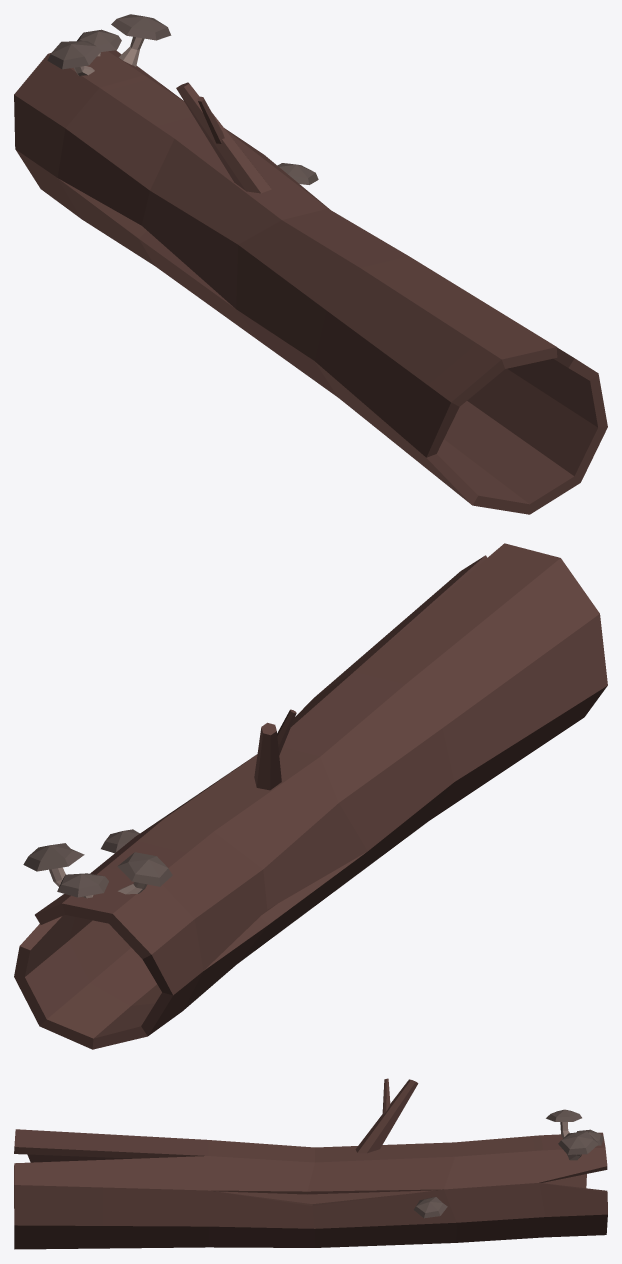
Rendered from log.glb.
3 views of the same model, one above another, from view 1: azimuth 30°, elevation 25°; view 2: azimuth 150°, elevation 25°; view 3: azimuth 270°, elevation 25° (orthographic). The views are drawn at different scales.
Parts seen in each view (by area): view 1: WoodLog; view 2: WoodLog; view 3: WoodLog.
Part boxes in pixels (x1,y1,x2,y2): WoodLog: (14, 14, 607, 514); WoodLog: (14, 543, 607, 1049); WoodLog: (14, 1078, 607, 1249).
Size of the model in its own units: 0.6327 by 0.7485 by 2.67.
